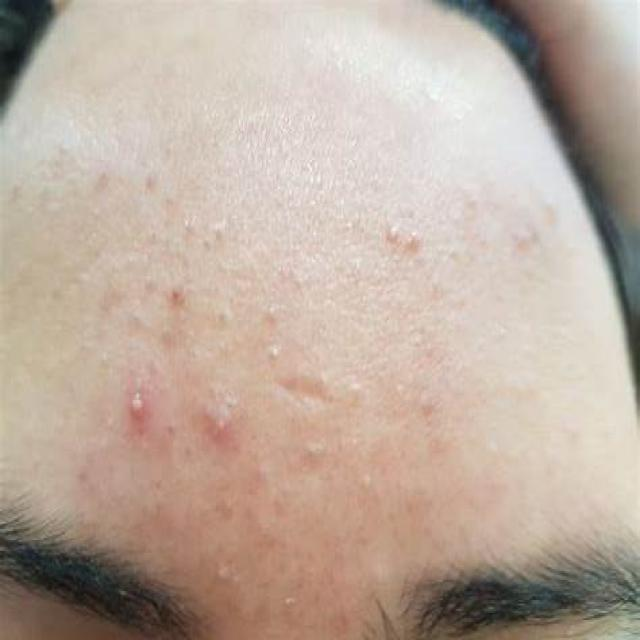fungal: (68, 153, 466, 532)
